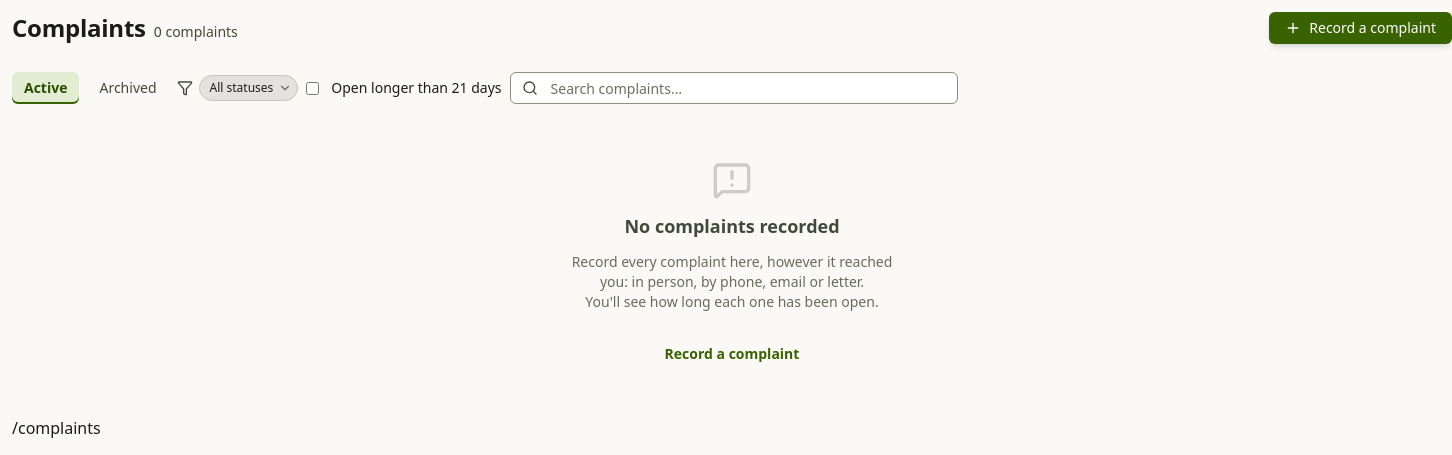
ComplaintsPage › archived view with nothing: its own copy, no Record action, only the toggle and search stay
The width and height of the screenshot is (1452, 455).
Click the radio button labelled "Archived" at (128, 88), box top-left (88, 72), bottom-right (169, 104)
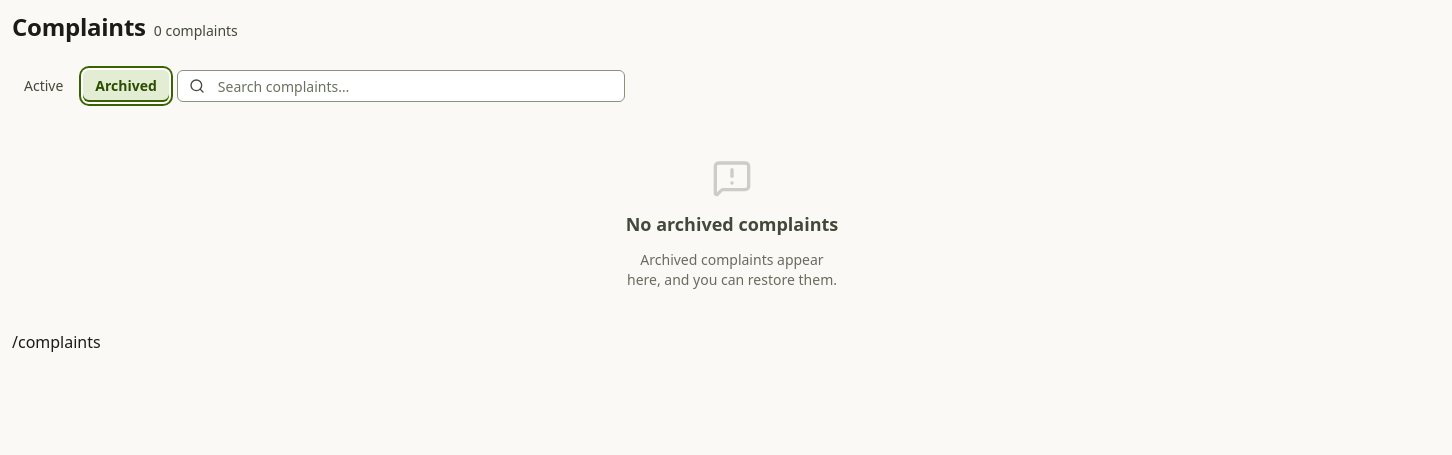
Expected: the text "No archived complaints" is shown, top-left (626, 210), bottom-right (838, 238)
Expected: the link "Record a complaint" is gone
Expected: the text "Open longer than 21 days" is gone
